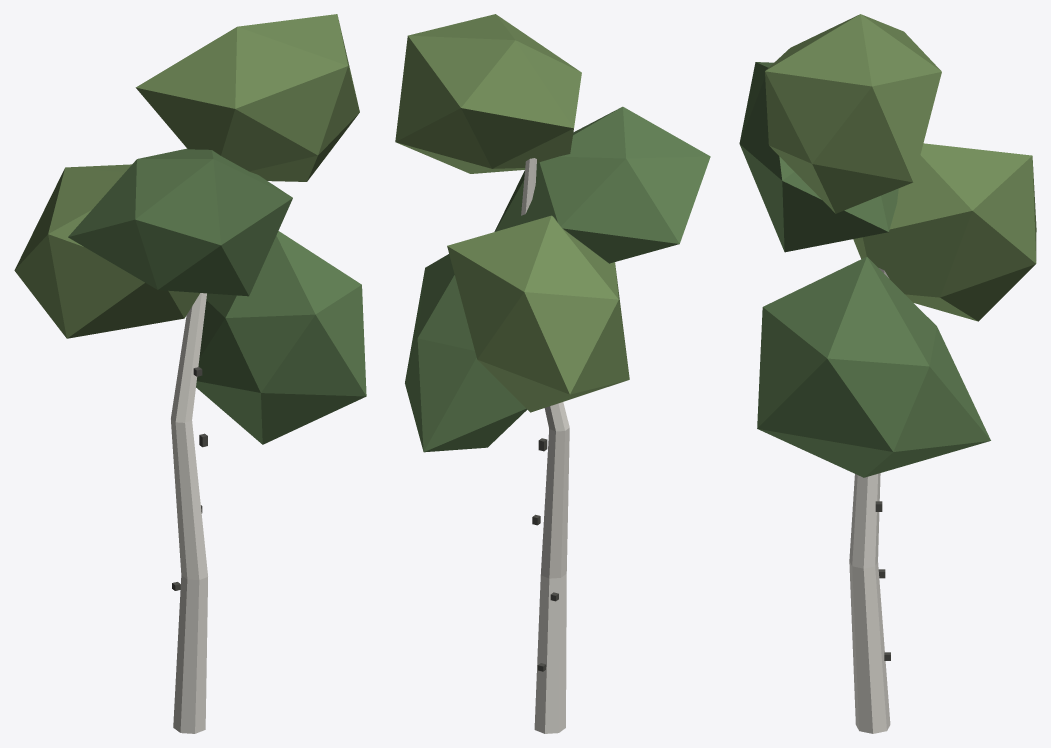
File: v_tree_birch.glb
3 views of the same model, side by side, from view 1: azimuth 30°, elevation 25°; view 2: azimuth 150°, elevation 25°; view 3: azimuth 270°, elevation 25° (orthographic). The views are drawn at different scales.
Visible parts, largest first — view 1: Birch; view 2: Birch; view 3: Birch.
Part boxes in pixels (left/top/right/bottom): Birch: left=14, top=14, right=366, bottom=733; Birch: left=395, top=14, right=710, bottom=733; Birch: left=739, top=14, right=1036, bottom=733.
Size of what is drawn, in the model's own units: 3.06 by 7.3 by 2.68.
